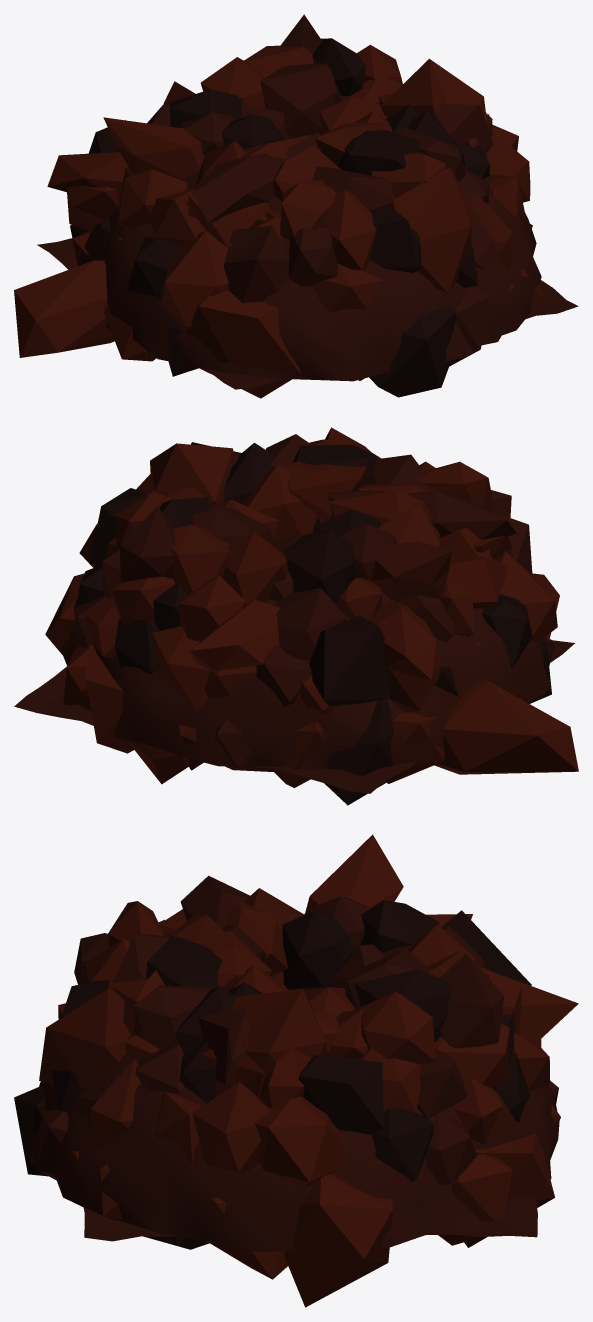
File: PreHistory_V02.FBX
3 views of the same model, one above another, from view 1: azimuth 30°, elevation 25°; view 2: azimuth 150°, elevation 25°; view 3: azimuth 270°, elevation 25° (orthographic). The views are drawn at different scales.
Visible parts, largest first — view 1: RotsAchterWand, GeoSphere006, GeoSphere010, GeoSphere052, GeoSphere013, GeoSphere108, GeoSphere088, GeoSphere026, GeoSphere027, GeoSphere091, GeoSphere076, GeoSphere050 (+44 smaller); view 2: RotsAchterWand, GeoSphere006, GeoSphere066, GeoSphere064, Ondergrond, GeoSphere085, GeoSphere088, GeoSphere076, GeoSphere067, GeoSphere065, GeoSphere083, GeoSphere081 (+49 smaller); view 3: RotsAchterWand, GeoSphere020, GeoSphere036, GeoSphere052, GeoSphere058, GeoSphere076, GeoSphere035, GeoSphere081, GeoSphere110, GeoSphere079, GeoSphere088, Ondergrond (+48 smaller).
Boxes of the visible parts, box(x1,y1,x2,y2) form: RotsAchterWand: box(78, 95, 541, 381); GeoSphere006: box(14, 260, 114, 357); GeoSphere010: box(186, 290, 300, 398); GeoSphere052: box(392, 167, 471, 293); GeoSphere013: box(369, 305, 455, 397); GeoSphere108: box(260, 63, 342, 138); GeoSphere088: box(103, 117, 204, 180); GeoSphere026: box(161, 230, 228, 327); GeoSphere027: box(223, 226, 289, 303); GeoSphere091: box(193, 153, 287, 222); GeoSphere076: box(380, 58, 485, 117); GeoSphere050: box(326, 190, 376, 270); RotsAchterWand: box(61, 561, 554, 769); GeoSphere006: box(434, 680, 578, 774); GeoSphere066: box(309, 615, 391, 706); GeoSphere064: box(190, 600, 280, 671); Ondergrond: box(14, 639, 574, 793); GeoSphere085: box(282, 529, 358, 605); GeoSphere088: box(371, 541, 451, 600); GeoSphere076: box(150, 443, 233, 505); GeoSphere067: box(370, 600, 436, 680); GeoSphere065: box(274, 588, 346, 659); GeoSphere083: box(222, 531, 287, 604); GeoSphere081: box(120, 506, 175, 582); RotsAchterWand: box(30, 1009, 559, 1251); GeoSphere020: box(284, 1173, 392, 1307); GeoSphere036: box(254, 1096, 348, 1188); GeoSphere052: box(39, 979, 130, 1089); GeoSphere058: box(298, 1055, 383, 1134); GeoSphere076: box(231, 988, 327, 1091); GeoSphere035: box(192, 1081, 269, 1172); GeoSphere081: box(440, 953, 504, 1048); GeoSphere110: box(282, 911, 353, 990); GeoSphere079: box(359, 991, 435, 1063); GeoSphere088: box(305, 834, 403, 914); Ondergrond: box(83, 1195, 537, 1241).
Size of the model in its own units: 3626 by 1750 by 3116.
